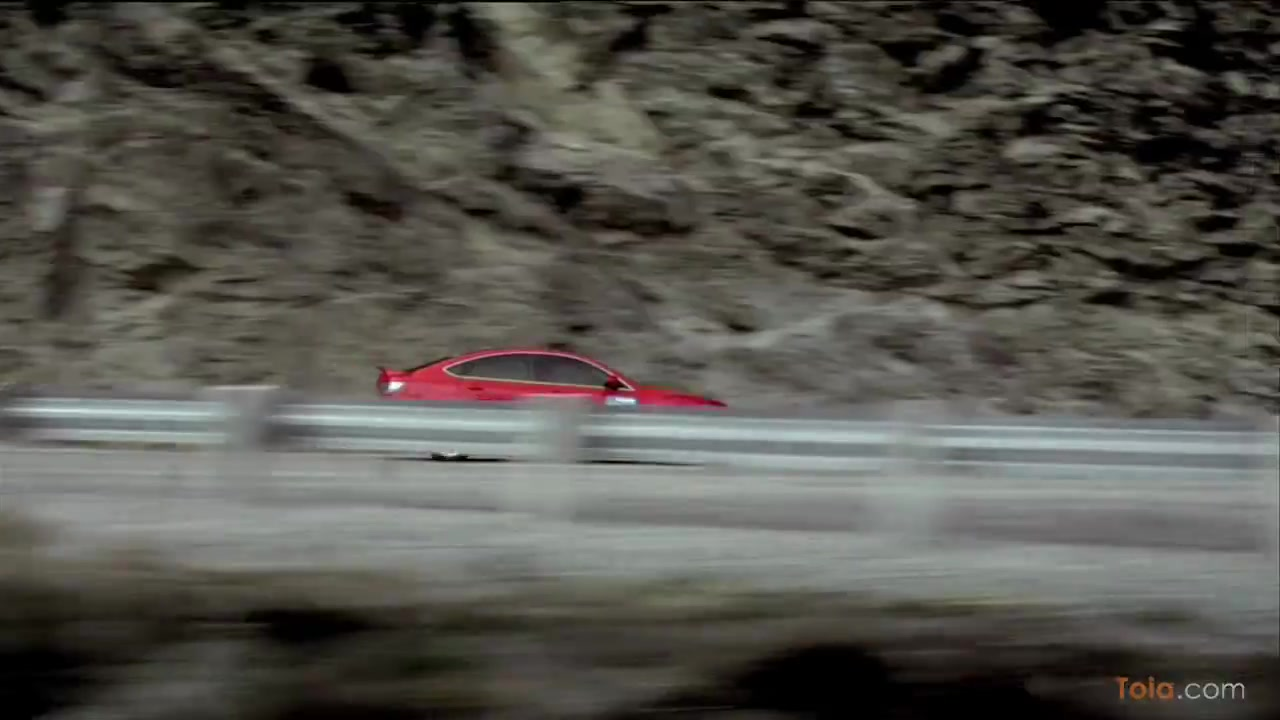car: (373, 337, 734, 465)
